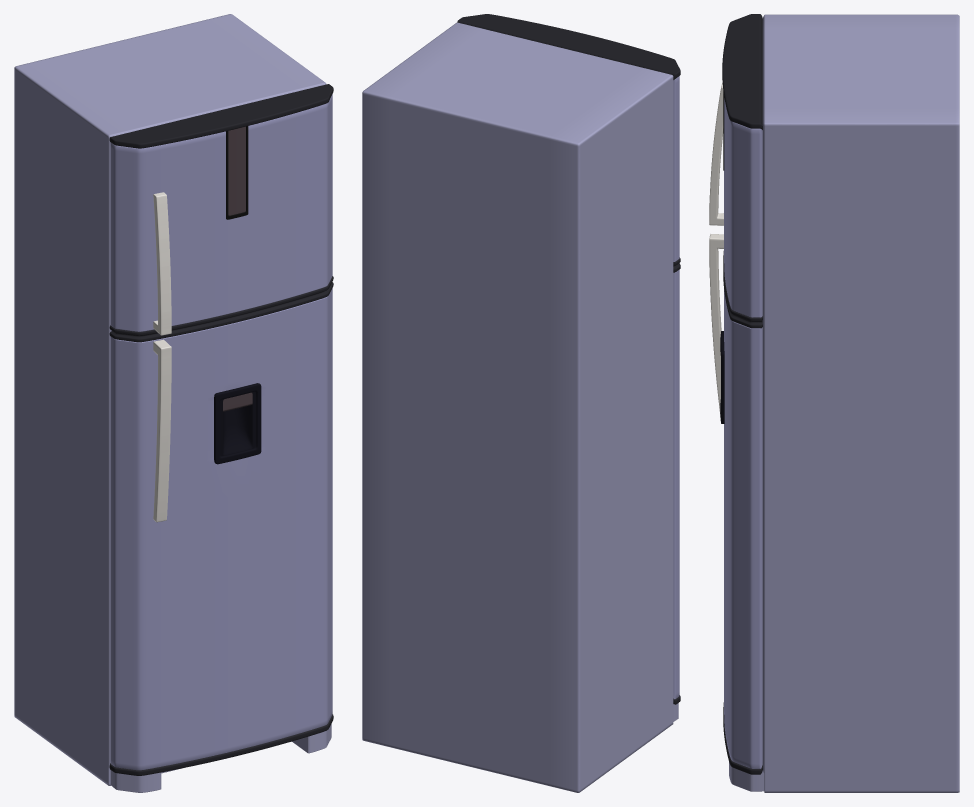
File: doubledoorref.fbx
3 views of the same model, side by side, from view 1: azimuth 30°, elevation 25°; view 2: azimuth 150°, elevation 25°; view 3: azimuth 270°, elevation 25° (orthographic). The views are drawn at different scales.
Parts seen in each view (by area): view 1: imagetostl_mesh1, imagetostl_mesh0, imagetostl_mesh3, imagetostl_mesh8, imagetostl_mesh2, imagetostl_mesh6, imagetostl_mesh5; view 2: imagetostl_mesh0, imagetostl_mesh1, imagetostl_mesh3; view 3: imagetostl_mesh0, imagetostl_mesh1, imagetostl_mesh3, imagetostl_mesh8.
Part boxes in pixels (bbox=[...]): imagetostl_mesh1: bbox=[110, 94, 332, 770]; imagetostl_mesh0: bbox=[14, 14, 331, 792]; imagetostl_mesh3: bbox=[109, 84, 333, 775]; imagetostl_mesh8: bbox=[153, 192, 171, 522]; imagetostl_mesh2: bbox=[214, 383, 261, 464]; imagetostl_mesh6: bbox=[228, 126, 245, 215]; imagetostl_mesh5: bbox=[226, 126, 248, 219]; imagetostl_mesh0: bbox=[362, 22, 678, 792]; imagetostl_mesh1: bbox=[673, 76, 679, 699]; imagetostl_mesh3: bbox=[457, 14, 680, 704]; imagetostl_mesh0: bbox=[729, 14, 959, 792]; imagetostl_mesh1: bbox=[724, 98, 762, 768]; imagetostl_mesh3: bbox=[722, 14, 762, 774]; imagetostl_mesh8: bbox=[709, 83, 723, 413].
Bounding box in the file's own units: 71.27 × 202 × 68.5.
